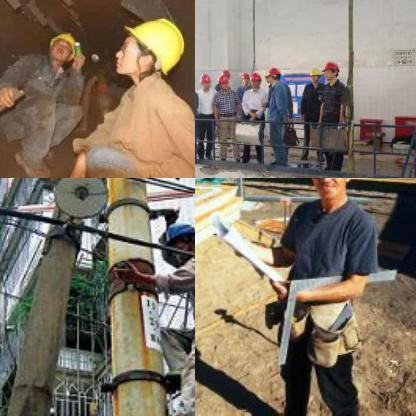Helmet: (113, 10, 186, 84), (159, 211, 194, 260), (304, 178, 354, 200), (48, 28, 76, 66), (322, 58, 338, 82), (264, 63, 280, 86), (306, 63, 320, 82), (215, 73, 229, 91), (196, 71, 209, 89), (250, 68, 260, 86), (240, 70, 250, 84)
